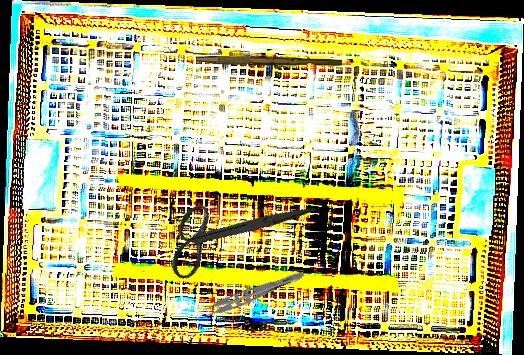Iris Scissors: (150, 146, 317, 317)
Scalpel Handle: (196, 56, 342, 67)
Tissue Forceps: (193, 261, 308, 324)
